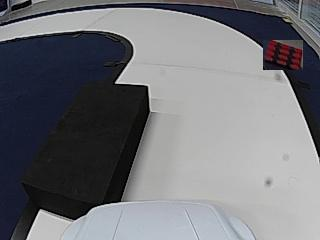block: (24, 83, 148, 209)
